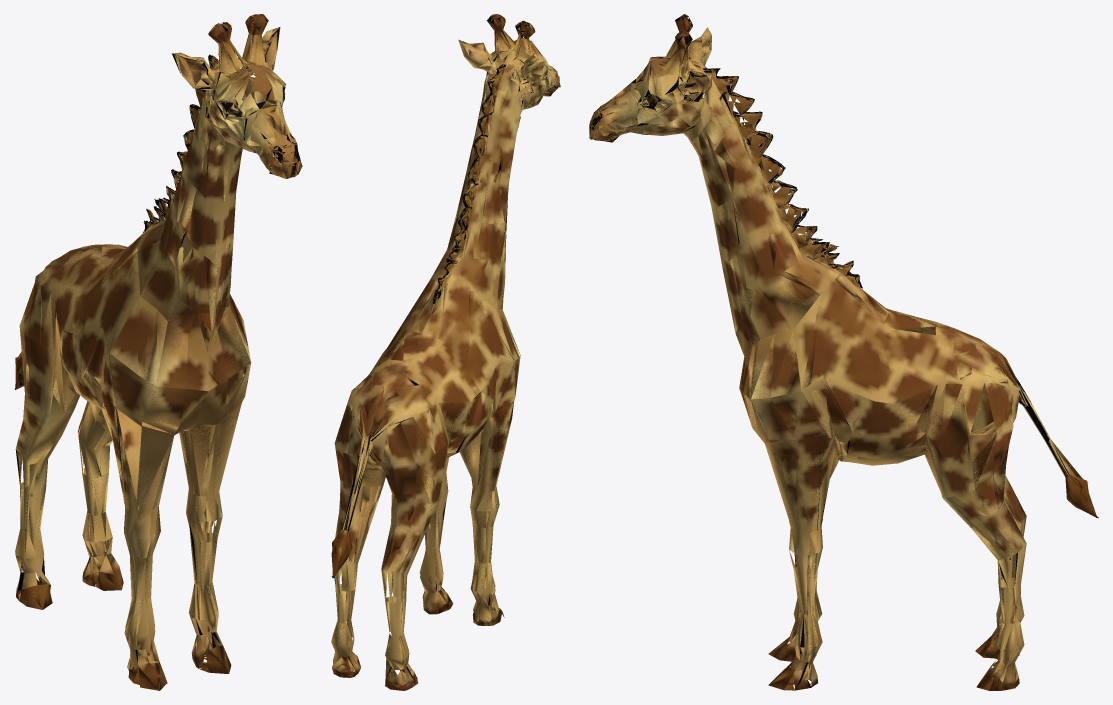
Rendered from creature_giraffe.fbx.
3 renders of one model, left to right at view 1: azimuth 30°, elevation 25°; view 2: azimuth 150°, elevation 25°; view 3: azimuth 270°, elevation 25°, orthographic. The views are drawn at different scales.
Parts seen in each view (by area): view 1: creature_giraffe_head, creature_giraffe_body, creature_giraffe_leg_fr, creature_giraffe_leg_br, creature_giraffe_leg_fl, creature_giraffe_leg_bl; view 2: creature_giraffe_body, creature_giraffe_head, creature_giraffe_leg_br, creature_giraffe_leg_bl, creature_giraffe_leg_fr, creature_giraffe_leg_fl, creature_giraffe_tail; view 3: creature_giraffe_head, creature_giraffe_body, creature_giraffe_leg_bl, creature_giraffe_leg_fl, creature_giraffe_leg_br, creature_giraffe_leg_fr.
Part boxes in pixels (x1=…): creature_giraffe_head: x1=137, y1=14, x2=302, y2=332; creature_giraffe_body: x1=26, y1=152, x2=251, y2=396; creature_giraffe_leg_fr: x1=83, y1=341, x2=208, y2=690; creature_giraffe_leg_br: x1=14, y1=283, x2=131, y2=609; creature_giraffe_leg_fl: x1=179, y1=342, x2=251, y2=673; creature_giraffe_leg_bl: x1=18, y1=314, x2=210, y2=590; creature_giraffe_body: x1=348, y1=194, x2=520, y2=453; creature_giraffe_head: x1=444, y1=14, x2=560, y2=309; creature_giraffe_leg_br: x1=332, y1=381, x2=492, y2=690; creature_giraffe_leg_bl: x1=331, y1=401, x2=385, y2=677; creature_giraffe_leg_fr: x1=459, y1=356, x2=520, y2=625; creature_giraffe_leg_fl: x1=397, y1=345, x2=453, y2=614; creature_giraffe_tail: x1=342, y1=458, x2=366, y2=540; creature_giraffe_head: x1=589, y1=14, x2=820, y2=338; creature_giraffe_body: x1=735, y1=185, x2=1019, y2=437; creature_giraffe_leg_bl: x1=835, y1=378, x2=1097, y2=690; creature_giraffe_leg_fl: x1=739, y1=377, x2=851, y2=690; creature_giraffe_leg_br: x1=970, y1=361, x2=1098, y2=658; creature_giraffe_leg_fr: x1=744, y1=394, x2=838, y2=661.
Bounding box in the file's own units: 473 × 2346 × 1678.
Materials: 1 (1 with a texture image).
